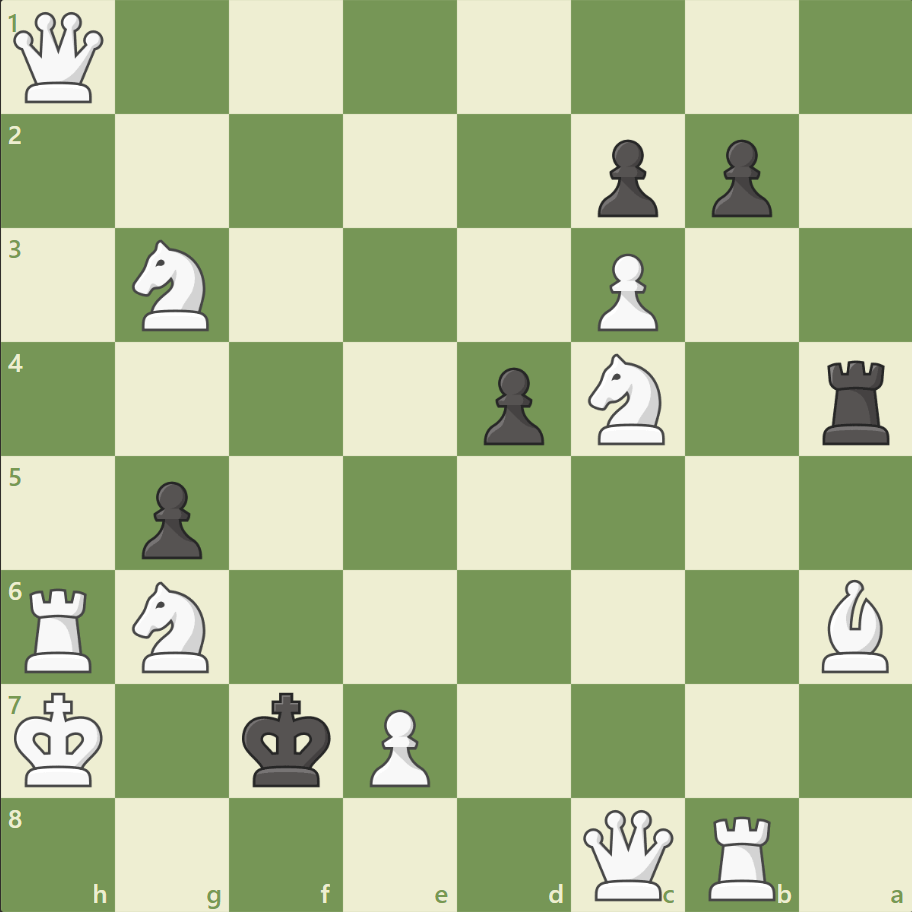B: (812, 574, 896, 676)
K: (11, 685, 111, 793)
N: (124, 234, 222, 337), (124, 575, 222, 677), (579, 348, 676, 450)
P: (361, 700, 435, 791), (588, 246, 662, 337)
Q: (578, 804, 677, 903), (10, 9, 109, 108)
R: (700, 806, 783, 904), (19, 579, 102, 676)
k: (238, 685, 338, 793)
p: (133, 473, 208, 564), (474, 359, 549, 450), (701, 132, 776, 223), (588, 132, 662, 223)
r: (814, 352, 897, 449)
